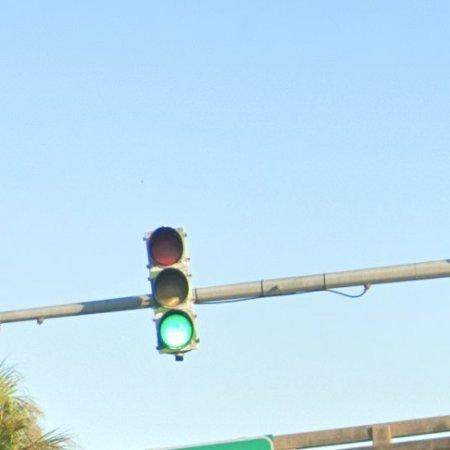traffic lights: (144, 225, 200, 356)
